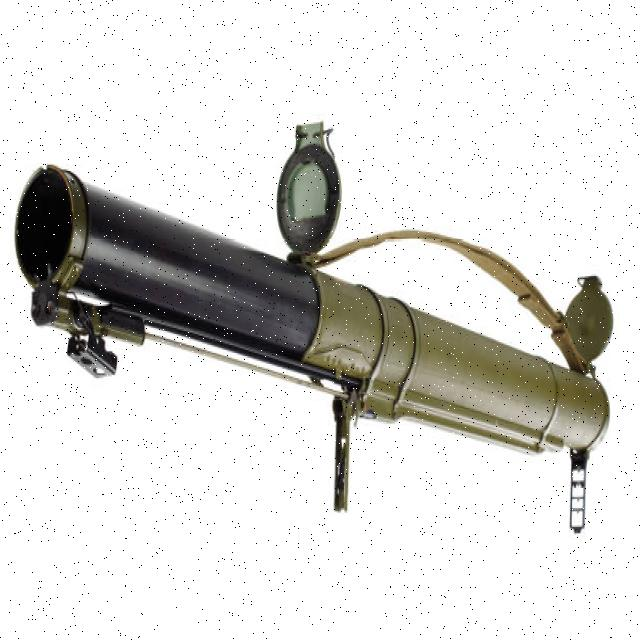bazooka: (14, 118, 621, 549)
